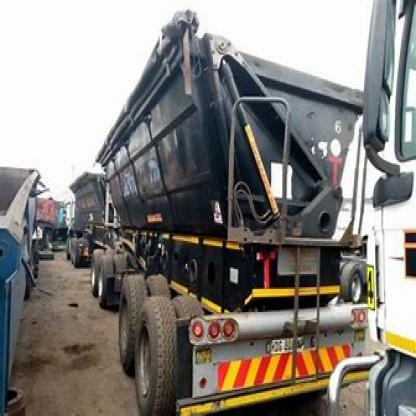dump_truck: (54, 15, 372, 404)
